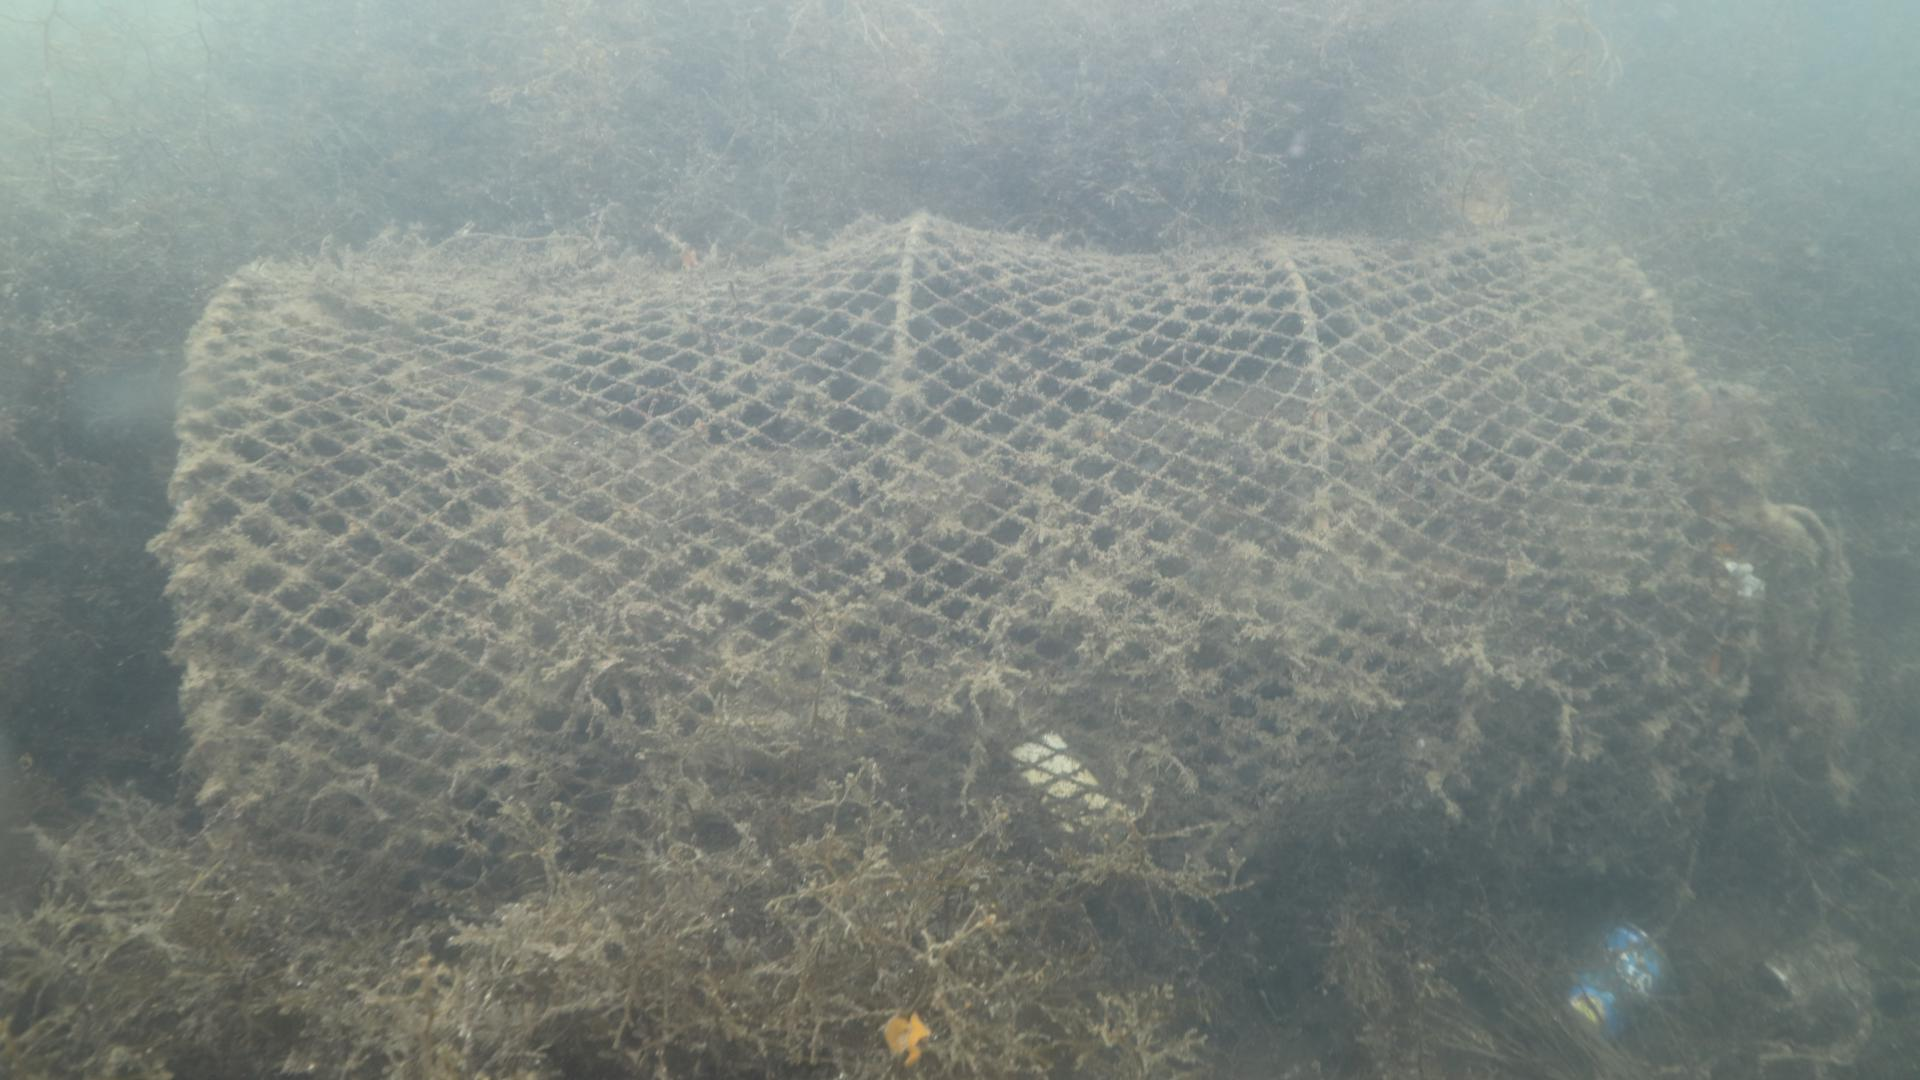spring fish trap: (164, 208, 1751, 910)
